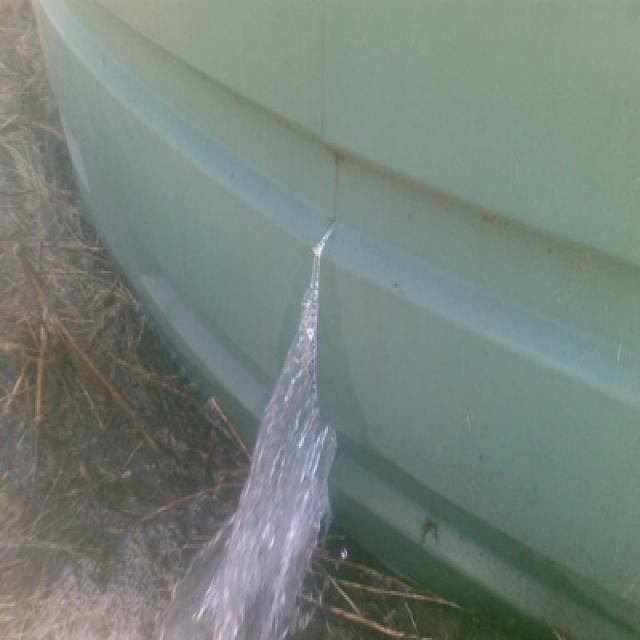leak: (152, 228, 338, 640)
